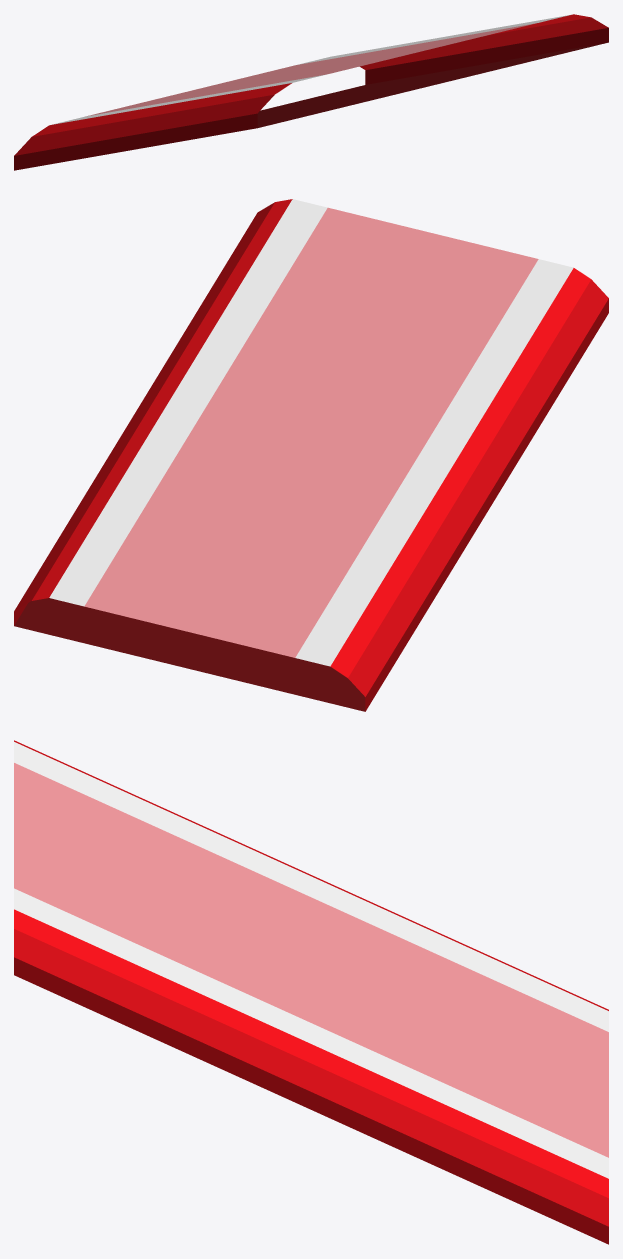
File: inc3.fbx
The picture shows the model from 3 angles, top to bottom: view 1: azimuth 30°, elevation 25°; view 2: azimuth 150°, elevation 25°; view 3: azimuth 270°, elevation 25°; orthographic projection. The views are drawn at different scales.
Parts seen in each view (by area): view 1: Incline3; view 2: Incline3; view 3: Incline3.
Part boxes in pixels (x1,y1,x2,y2): Incline3: (14, 14, 608, 170); Incline3: (14, 199, 608, 711); Incline3: (14, 740, 608, 1244).
Size of the model in its own units: 10 by 7 by 12.
